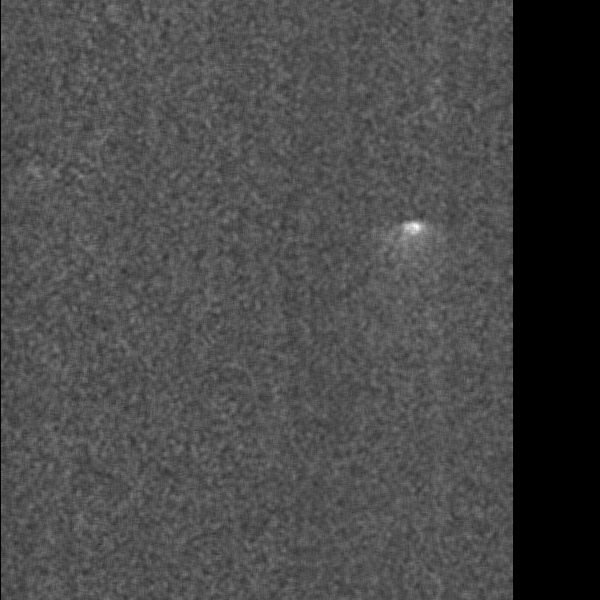spark: (116, 98, 169, 150), (151, 2, 191, 45), (258, 206, 298, 241), (37, 534, 69, 561), (54, 232, 77, 268)
